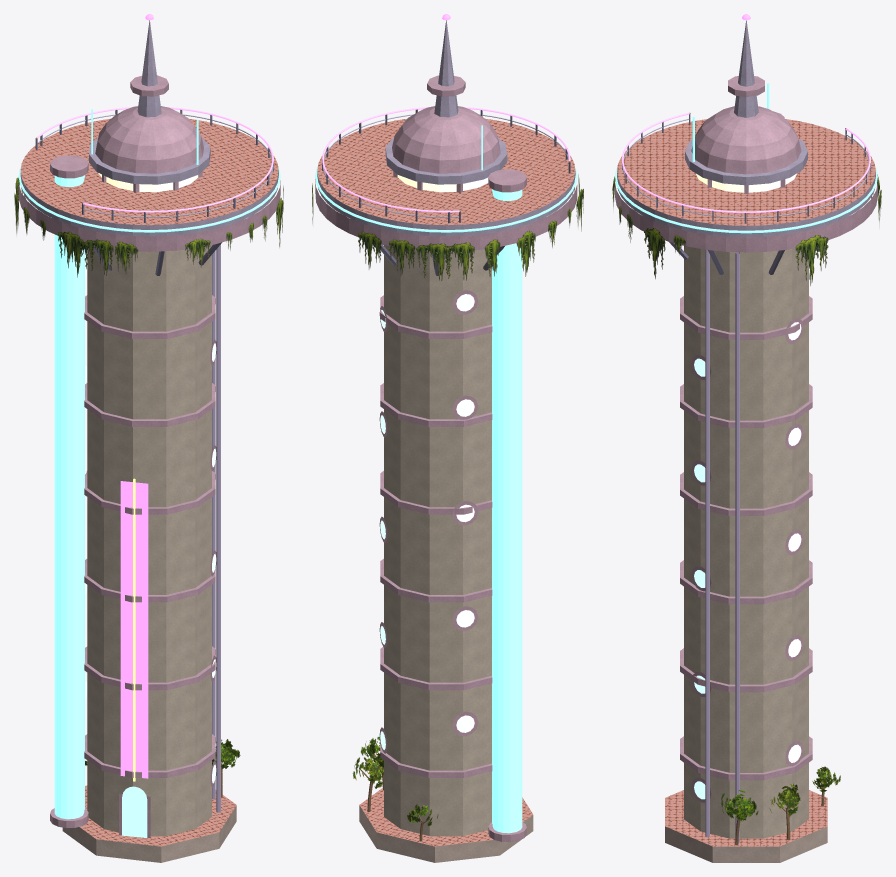
Rendered from TOWER_A.glb.
3 renders of one model, left to right at view 1: azimuth 30°, elevation 25°; view 2: azimuth 150°, elevation 25°; view 3: azimuth 270°, elevation 25°, orthographic.
Parts seen in each view (by area): view 1: BT_TOWER_A_Body, BT_TOWER_A_Moss56, BT_TOWER_A_Deck56_Rail0_Posts, BT_TOWER_A_Deck56_Rail0_Rail; view 2: BT_TOWER_A_Body, BT_TOWER_A_Moss56, BT_TOWER_A_Trees, BT_TOWER_A_Deck56_Rail0_Posts, BT_TOWER_A_Deck56_Rail0_Rail; view 3: BT_TOWER_A_Body, BT_TOWER_A_Moss56, BT_TOWER_A_Trees, BT_TOWER_A_Deck56_Rail0_Posts, BT_TOWER_A_Deck56_Rail0_Rail.
Boxes of the visible parts, <box> form: BT_TOWER_A_Body: <box>18,14,280,862</box>; BT_TOWER_A_Moss56: <box>14,177,283,277</box>; BT_TOWER_A_Deck56_Rail0_Posts: <box>35,110,273,222</box>; BT_TOWER_A_Deck56_Rail0_Rail: <box>37,107,273,212</box>; BT_TOWER_A_Body: <box>315,14,577,862</box>; BT_TOWER_A_Moss56: <box>312,174,583,280</box>; BT_TOWER_A_Trees: <box>352,737,438,841</box>; BT_TOWER_A_Deck56_Rail0_Posts: <box>322,109,570,222</box>; BT_TOWER_A_Deck56_Rail0_Rail: <box>322,107,570,212</box>; BT_TOWER_A_Body: <box>615,14,877,862</box>; BT_TOWER_A_Moss56: <box>612,174,881,285</box>; BT_TOWER_A_Trees: <box>721,766,840,845</box>; BT_TOWER_A_Deck56_Rail0_Posts: <box>622,114,870,223</box>; BT_TOWER_A_Deck56_Rail0_Rail: <box>622,113,870,212</box>.
Bounding box in the file's own units: 20.47 × 69.35 × 20.77.
15 materials, 6 textured.
